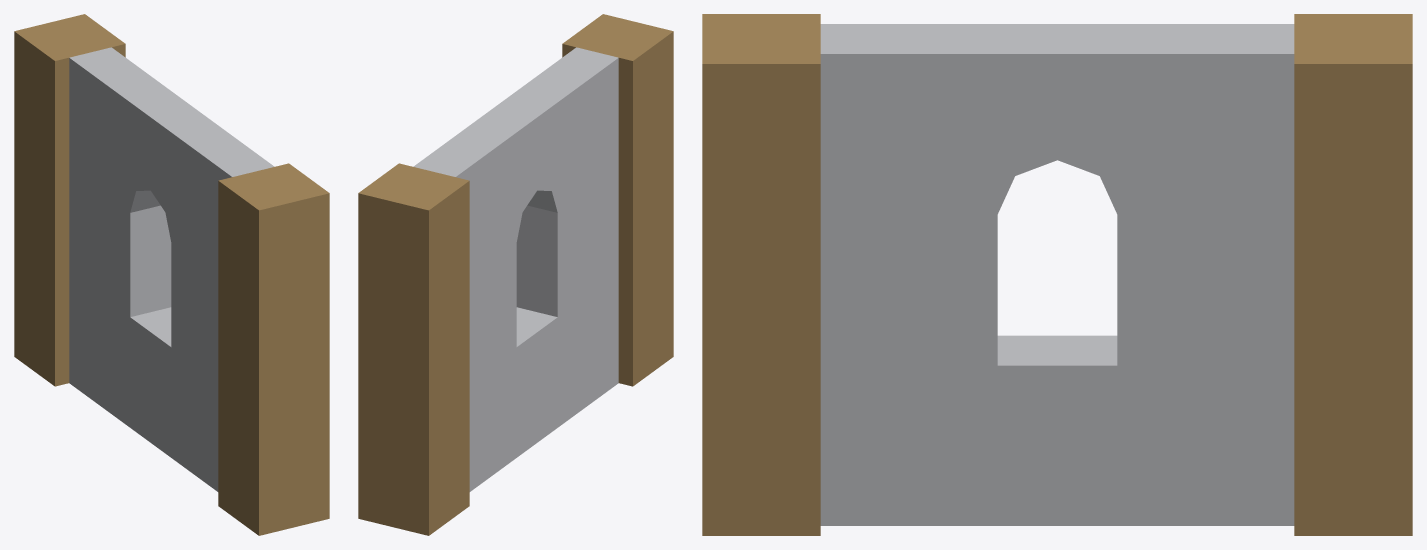
The model's file is Wood_Window_Round_01.obj.
The picture shows the model from 3 angles, left to right: view 1: azimuth 30°, elevation 25°; view 2: azimuth 150°, elevation 25°; view 3: azimuth 270°, elevation 25°; orthographic projection. The views are drawn at different scales.
Visible parts, largest first — view 1: Mesh1_Wood_Window_Round_Model; view 2: Mesh1_Wood_Window_Round_Model; view 3: Mesh1_Wood_Window_Round_Model.
Boxes of the visible parts, x1,y1,x2,y2 form: Mesh1_Wood_Window_Round_Model: [14, 14, 329, 535]; Mesh1_Wood_Window_Round_Model: [358, 14, 673, 535]; Mesh1_Wood_Window_Round_Model: [702, 14, 1412, 535].
Size of the model in its own units: 0.5 by 2.2 by 3.
